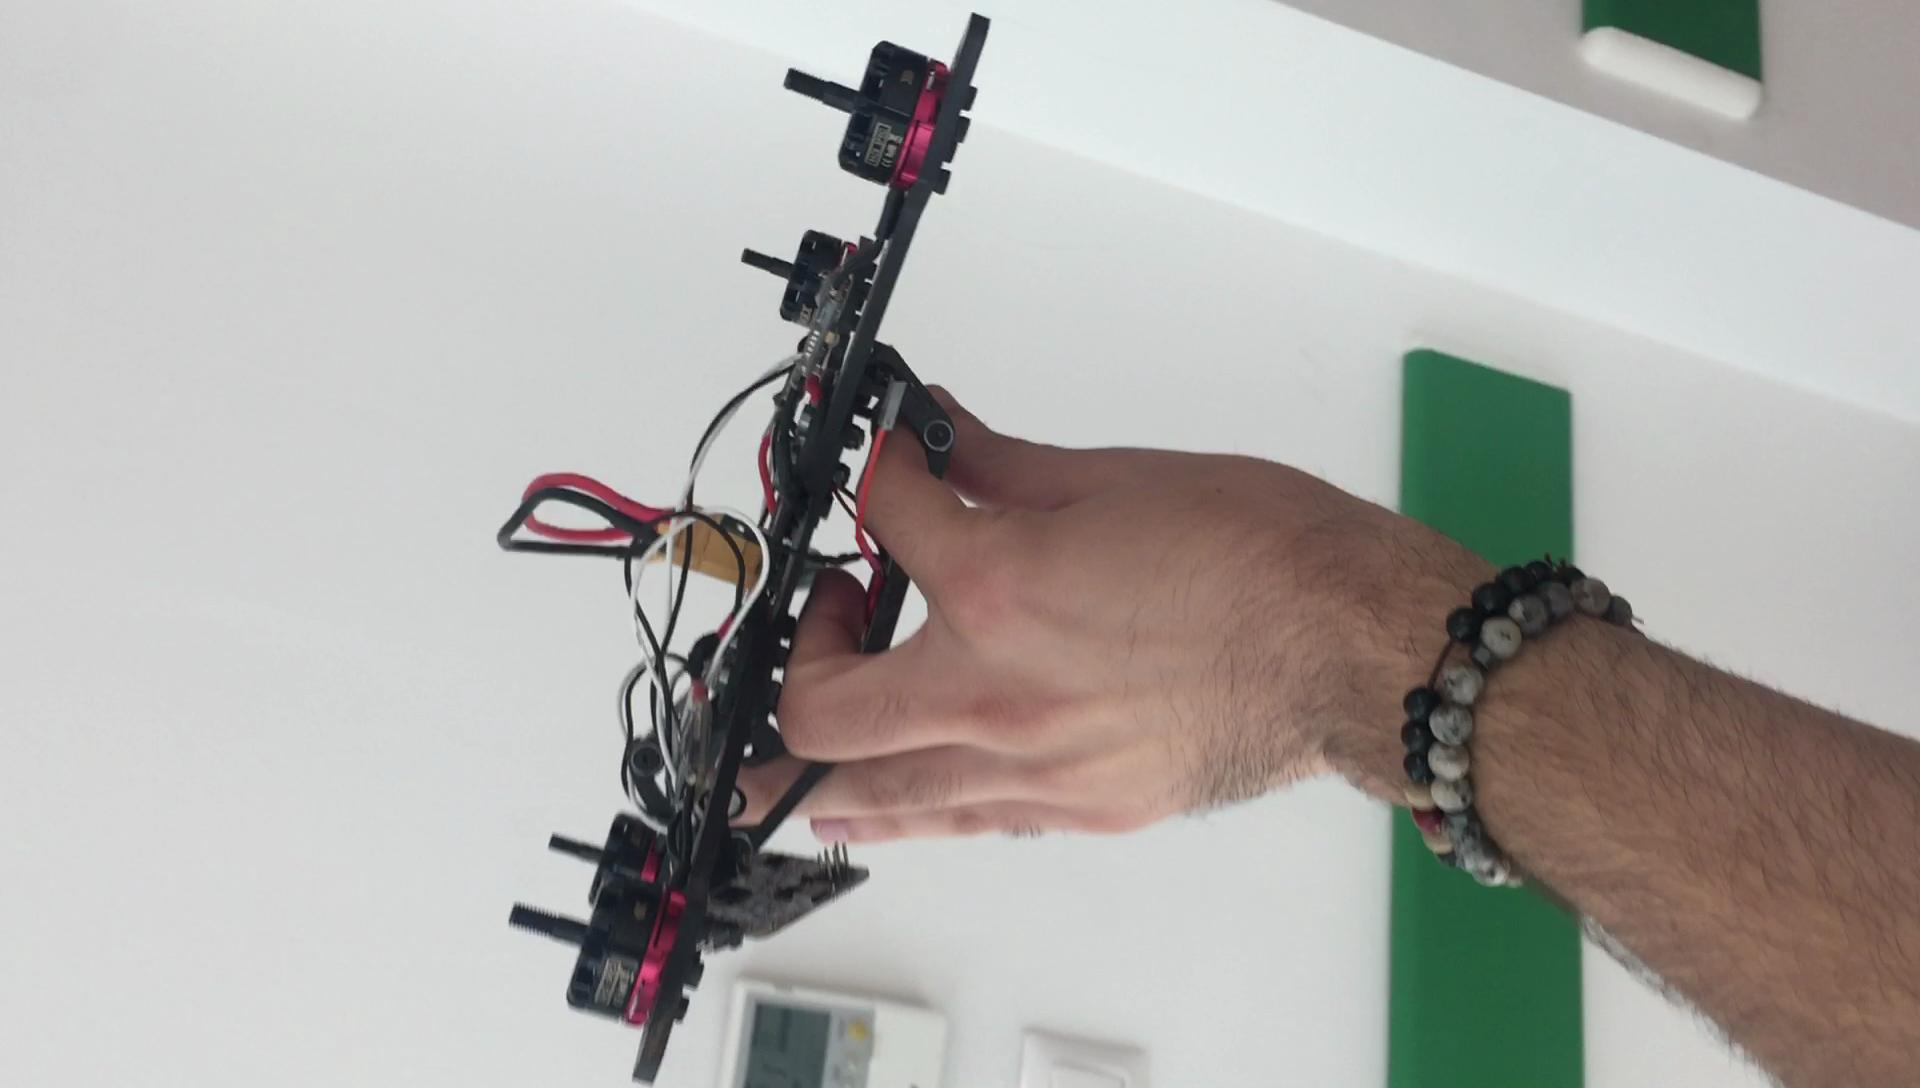drone: (531, 11, 1002, 1088)
